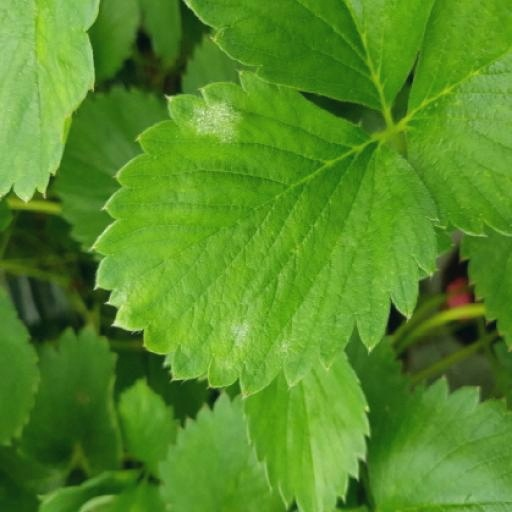Powdery Mildew Leaf: (90, 113, 441, 442)
